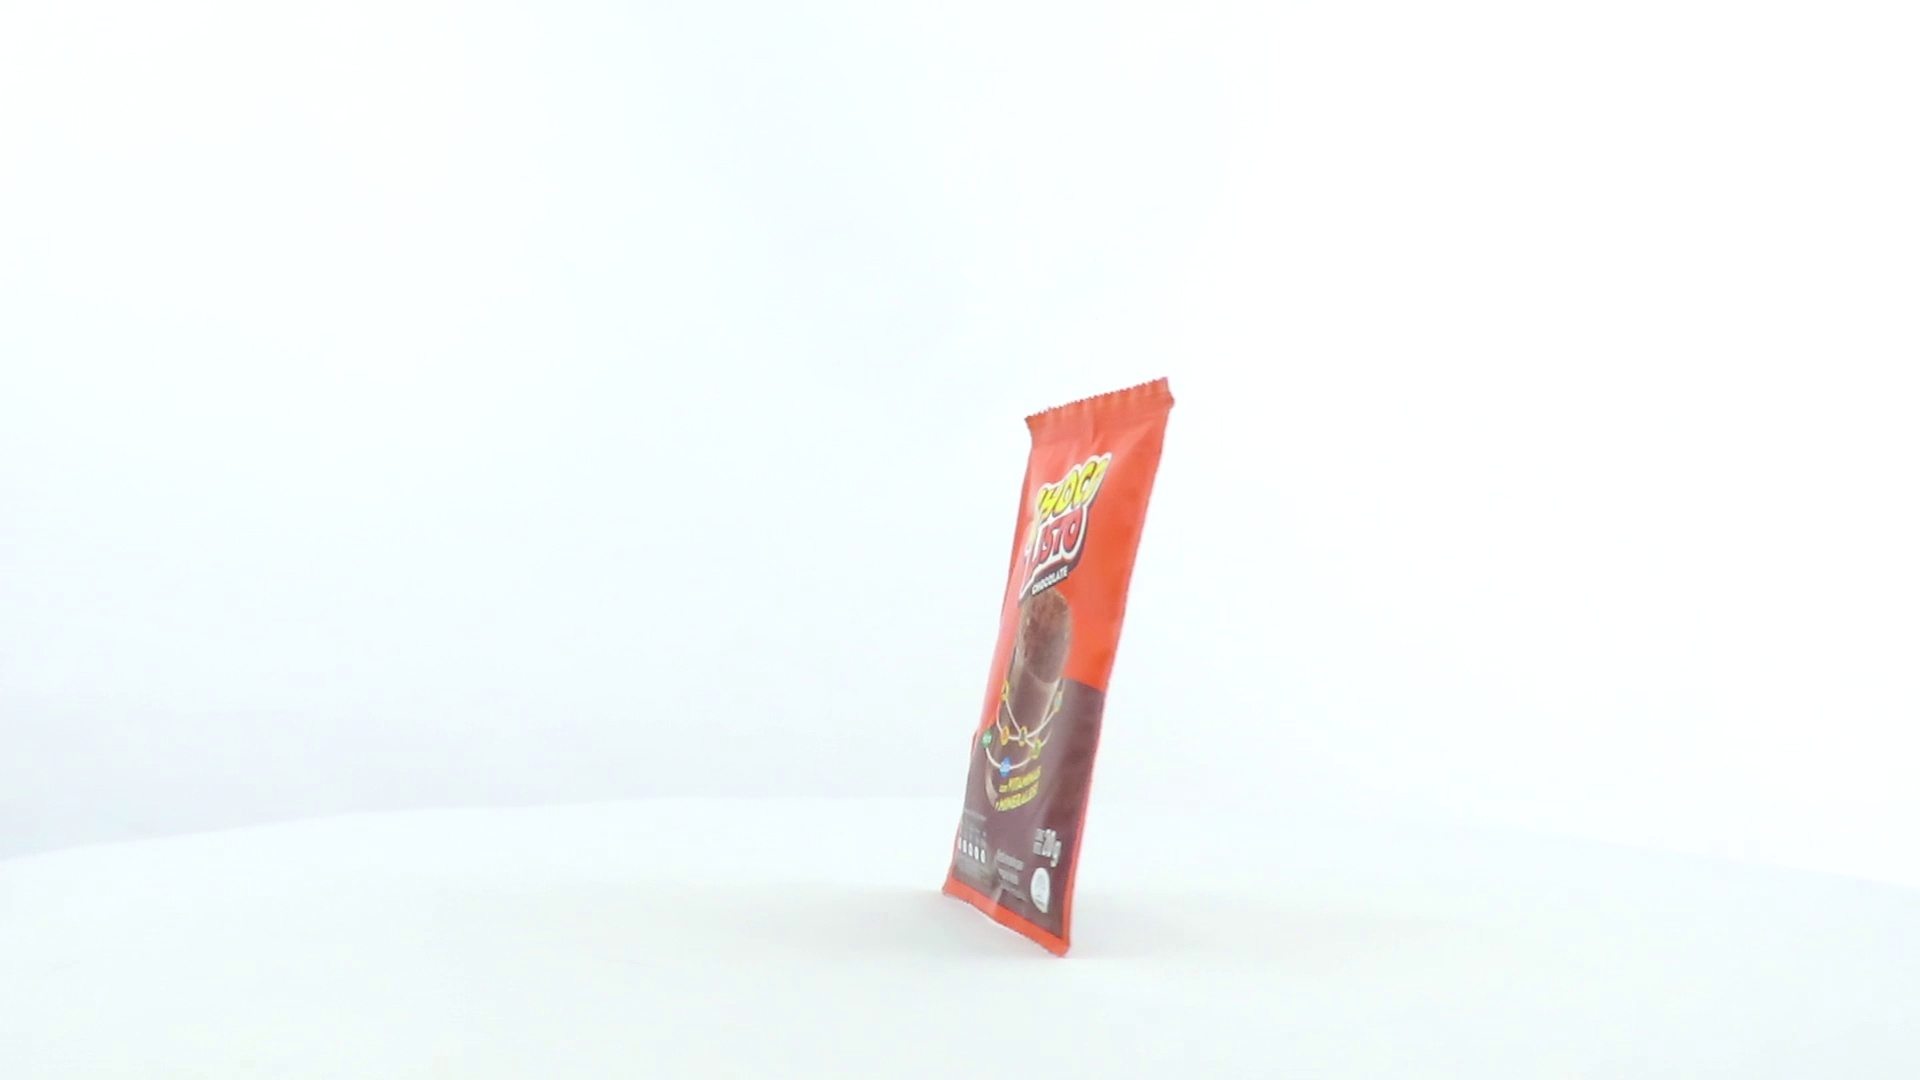COL0170103SOB02000: (878, 371, 1182, 967)
